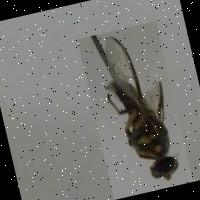Oriental-fruit-fly: (76, 21, 192, 200)
